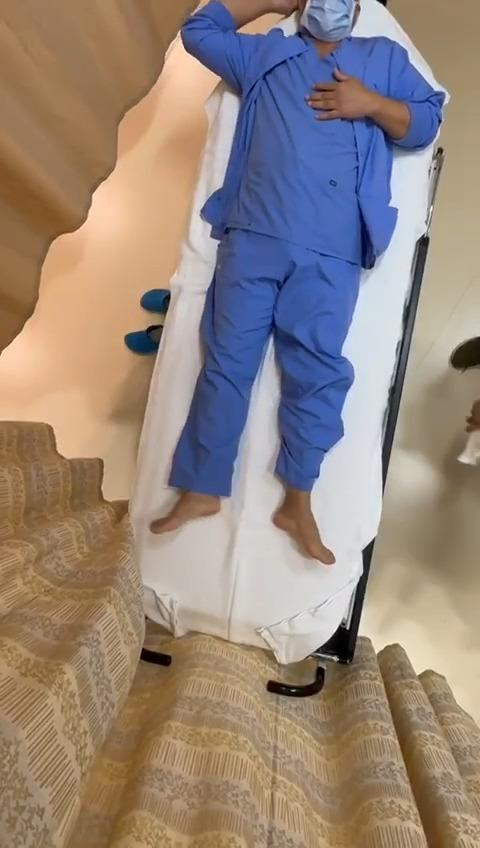bed: (131, 0, 446, 662)
patient: (152, 4, 445, 563)
